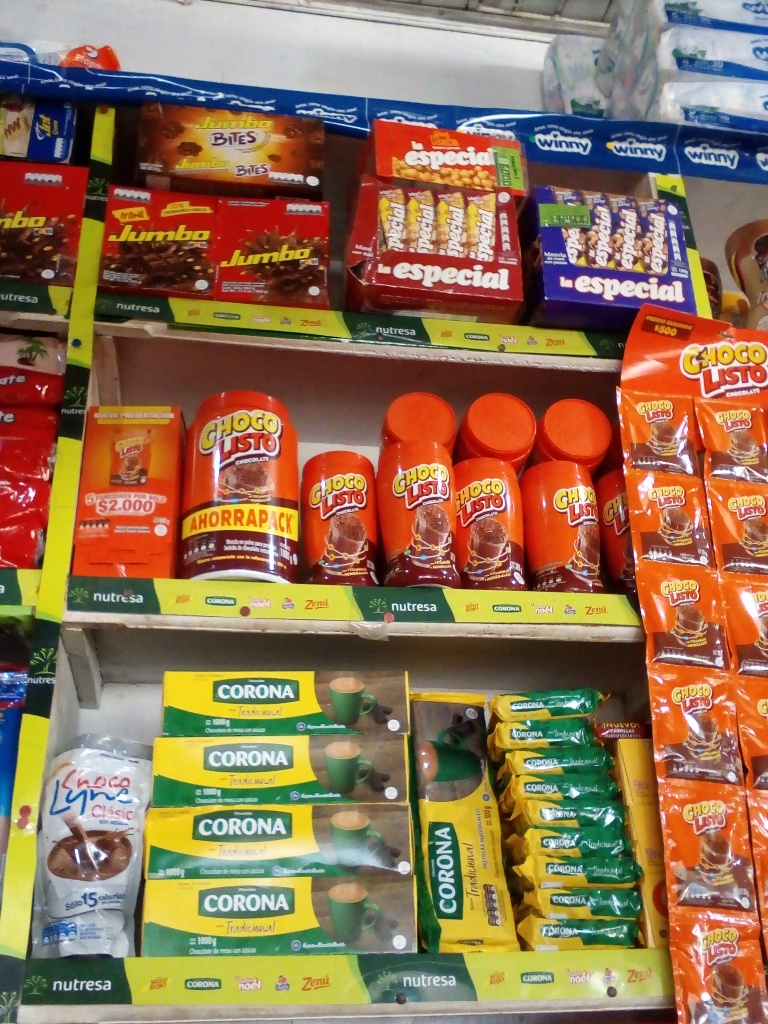COL0170103TRR00100: (185, 386, 301, 580)
